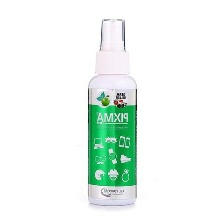cleaning_solution: (83, 11, 140, 207)
